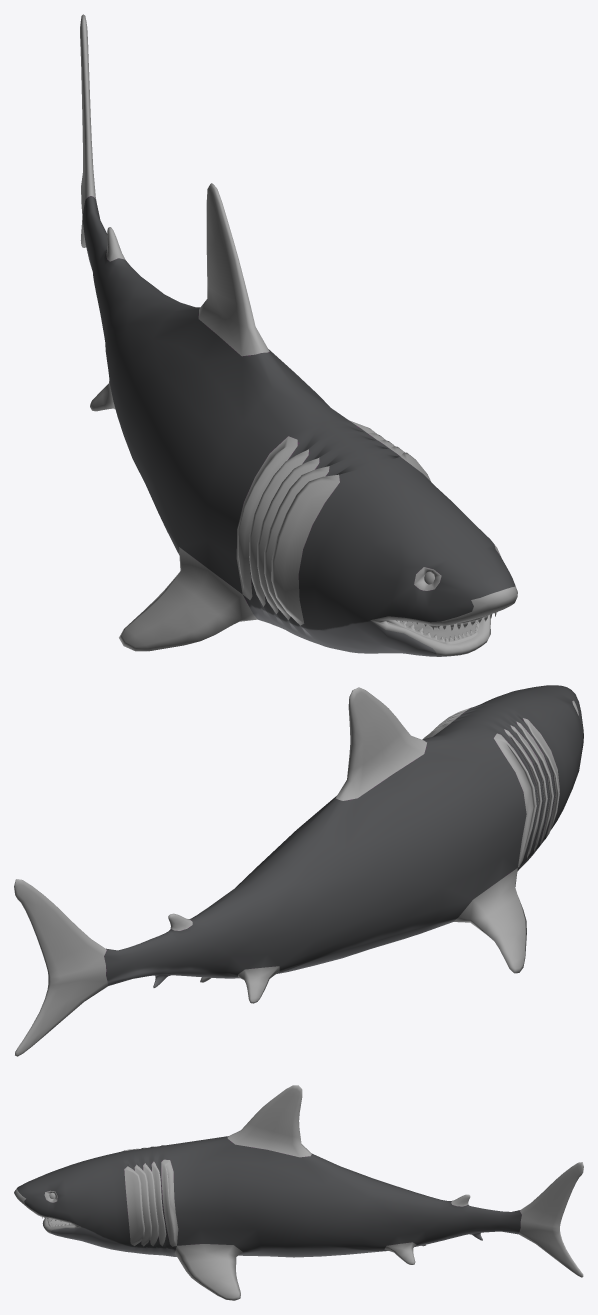
Rendered from Correctshark002.obj.
The picture shows the model from 3 angles, top to bottom: view 1: azimuth 30°, elevation 25°; view 2: azimuth 150°, elevation 25°; view 3: azimuth 270°, elevation 25°; orthographic projection. The views are drawn at different scales.
Visible parts, largest first — view 1: Parent_Sharkbody_Parent_sharkbody_data, Sharkjaw_Sharkjaw_data; view 2: Parent_Sharkbody_Parent_sharkbody_data; view 3: Parent_Sharkbody_Parent_sharkbody_data.
Boxes of the visible parts, x1,y1,x2,y2 form: Parent_Sharkbody_Parent_sharkbody_data: [80, 14, 517, 656]; Sharkjaw_Sharkjaw_data: [386, 612, 497, 644]; Parent_Sharkbody_Parent_sharkbody_data: [14, 685, 583, 1056]; Parent_Sharkbody_Parent_sharkbody_data: [14, 1085, 583, 1300].
Size of the model in its own units: 1.82 by 2.14 by 5.78.
Materials: 3 (1 with a texture image).
